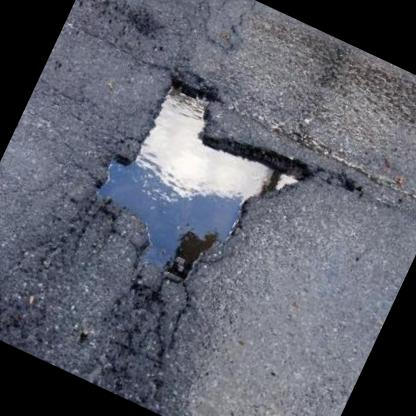pothole: (66, 54, 332, 325)
